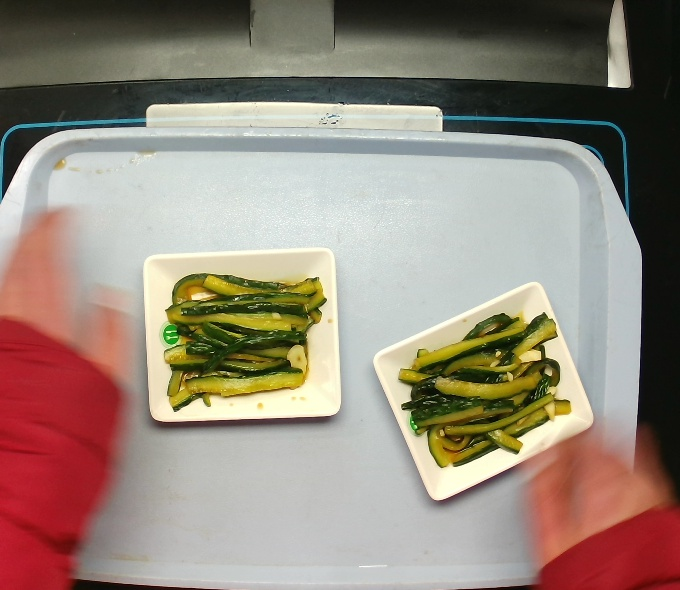wcq-LiangBanHuangGua: (392, 298, 576, 466), (156, 257, 326, 414)
